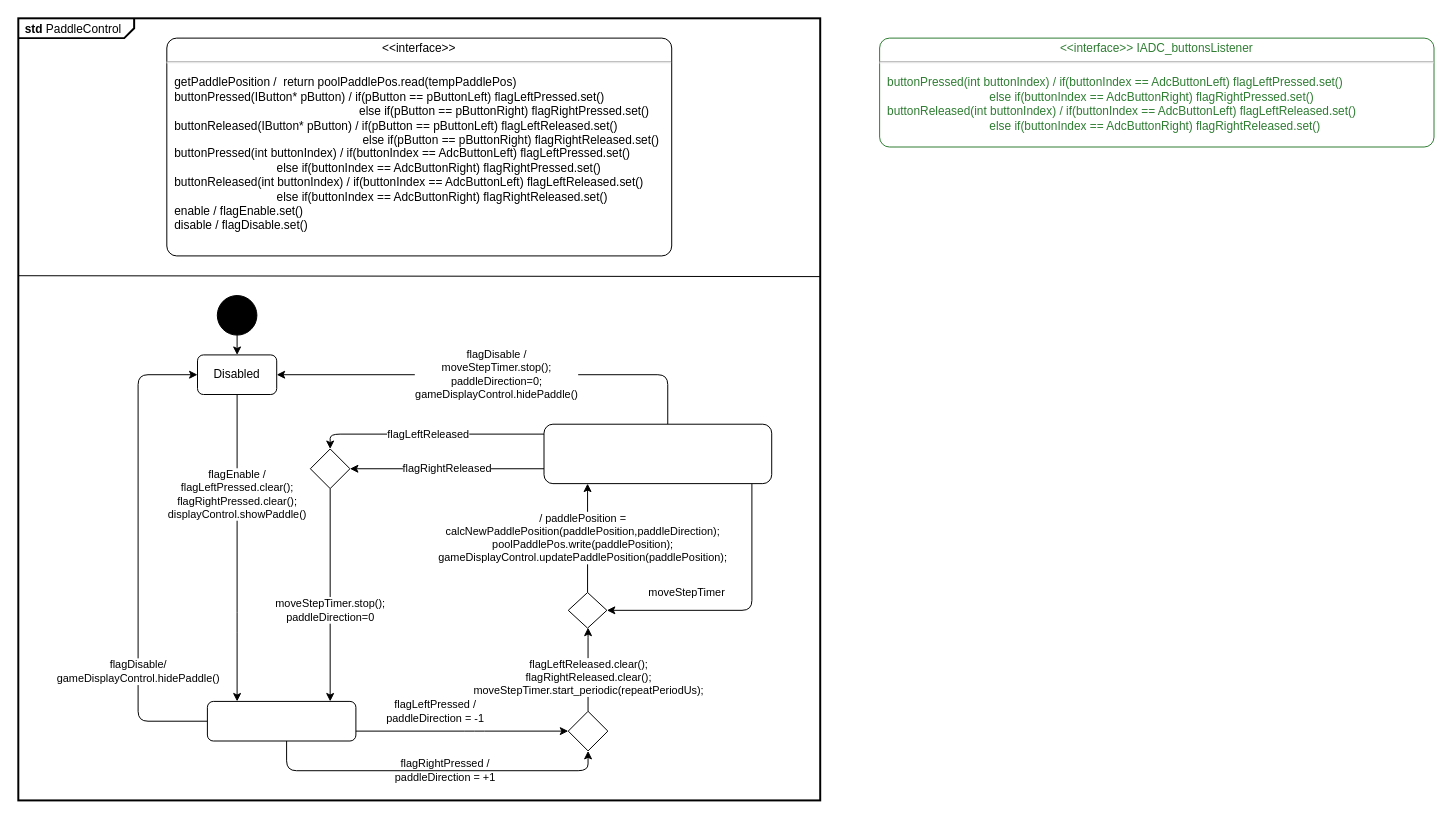
This 1451x818 diagram has some shape labels left out. The shapes that lost their labels are listed below. From the top down, each one's centre as x and y in pixels, then its label:
point 657,453: Moving
point 281,720: Enabled
